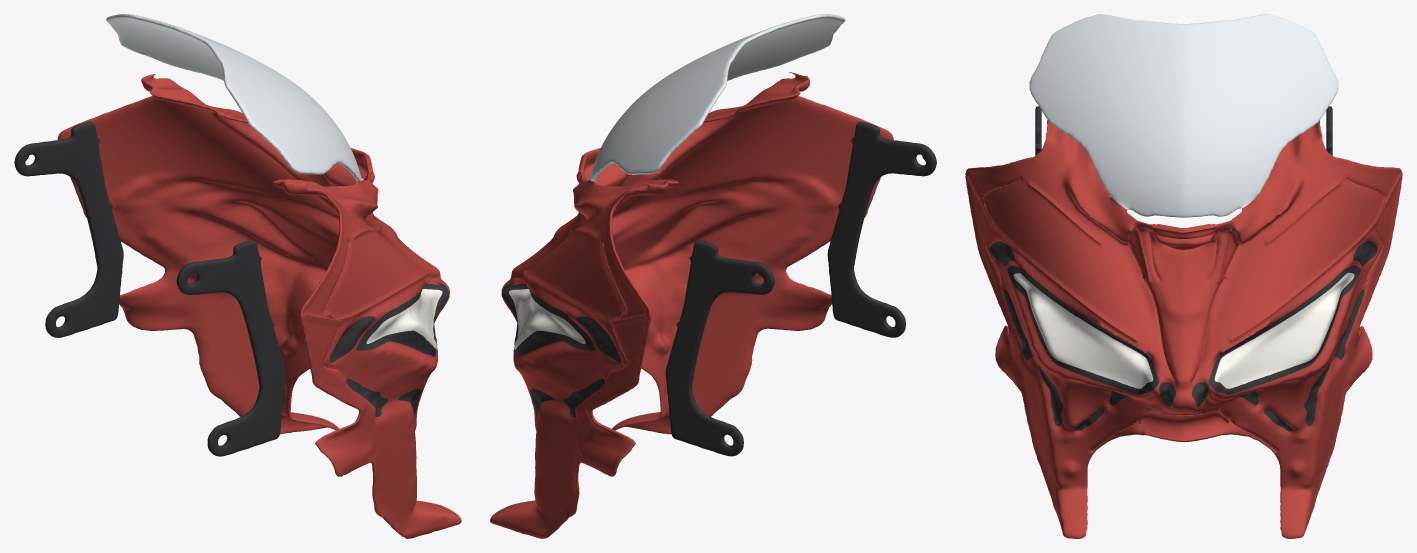
Rendered from naked_2.glb.
The picture shows the model from 3 angles, left to right: view 1: azimuth 30°, elevation 25°; view 2: azimuth 150°, elevation 25°; view 3: azimuth 270°, elevation 25°; orthographic projection. The views are drawn at different scales.
Visible parts, largest first — view 1: naked_2; view 2: naked_2; view 3: naked_2.
Part boxes in pixels (x1,y1,x2,y2): naked_2: (14,14,461,538); naked_2: (490,14,936,538); naked_2: (965,14,1402,538).
Bounding box in the file's own units: 0.3459 × 0.4532 × 0.4165.
